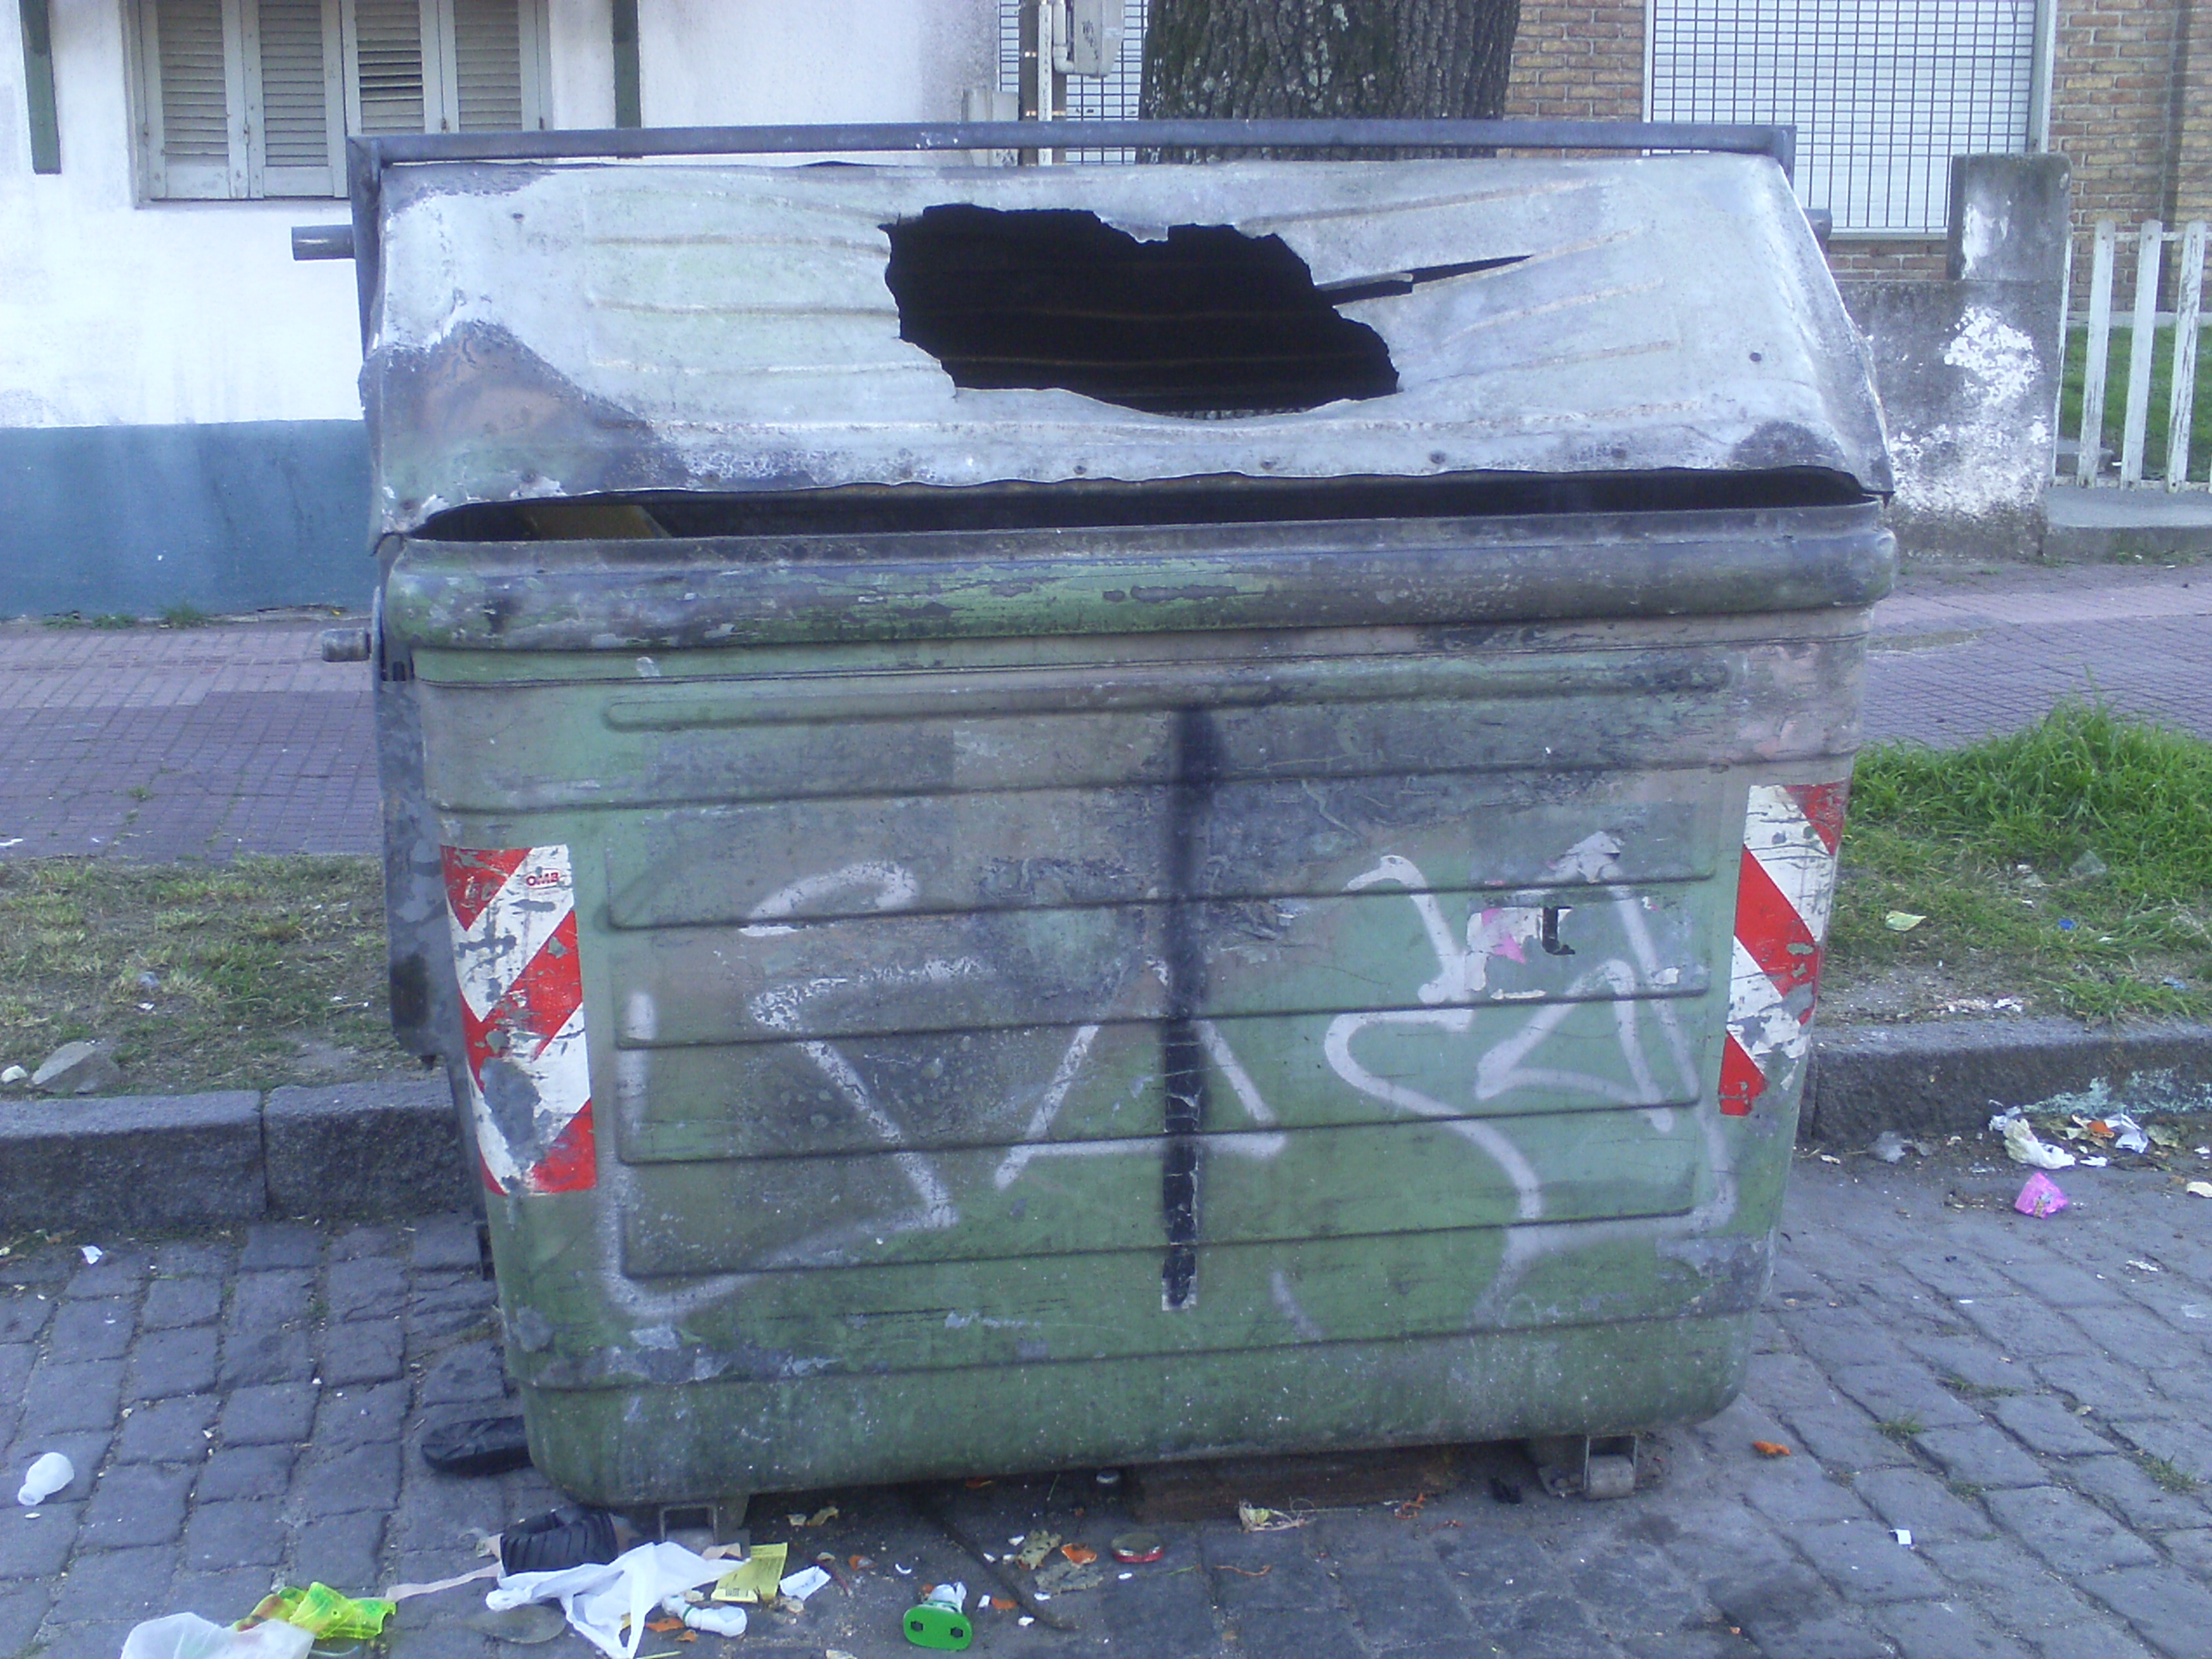container: (336, 120, 1909, 1493)
